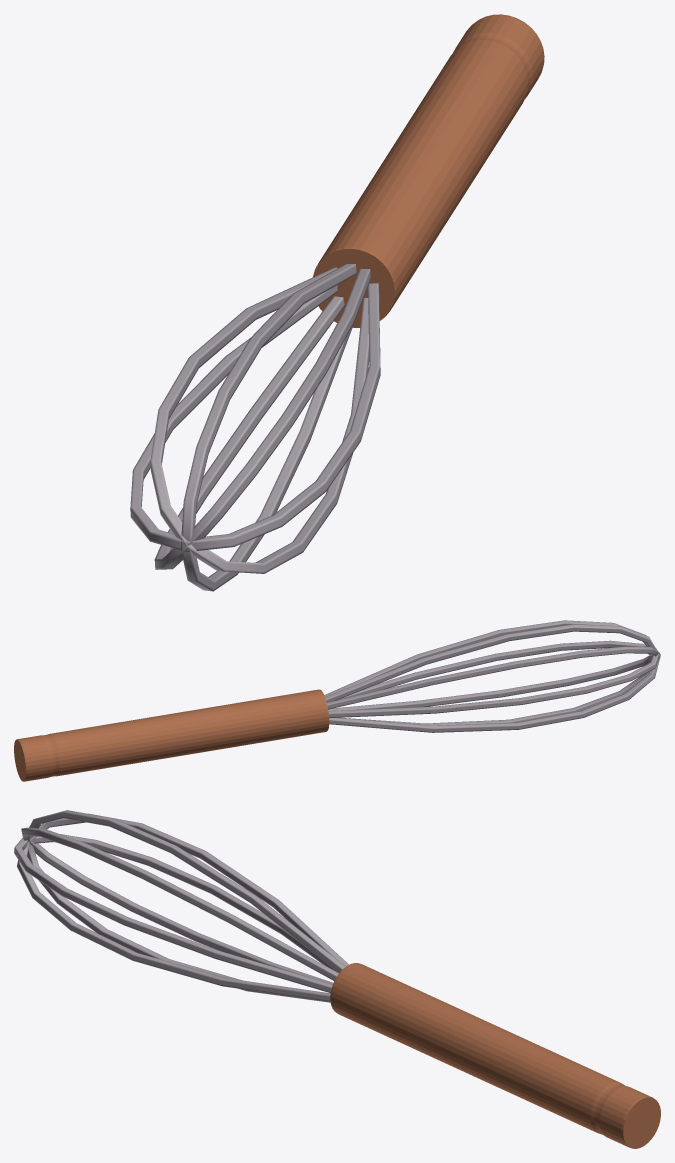
Rendered from batidoramanilla.fbx.
The picture shows the model from 3 angles, top to bottom: view 1: azimuth 30°, elevation 25°; view 2: azimuth 150°, elevation 25°; view 3: azimuth 270°, elevation 25°; orthographic projection. The views are drawn at different scales.
Visible parts, largest first — view 1: batidora de manilla 2, batidora de manilla; view 2: batidora de manilla 2, batidora de manilla; view 3: batidora de manilla 2, batidora de manilla.
Part boxes in pixels (left/top/right/bottom): batidora de manilla 2: left=130, top=264, right=380, bottom=591; batidora de manilla: left=313, top=14, right=544, bottom=327; batidora de manilla 2: left=324, top=620, right=660, bottom=732; batidora de manilla: left=14, top=689, right=329, bottom=781; batidora de manilla 2: left=14, top=810, right=348, bottom=1002; batidora de manilla: left=330, top=963, right=660, bottom=1148.
Bounding box in the file's own units: 112 × 23.08 × 107.
